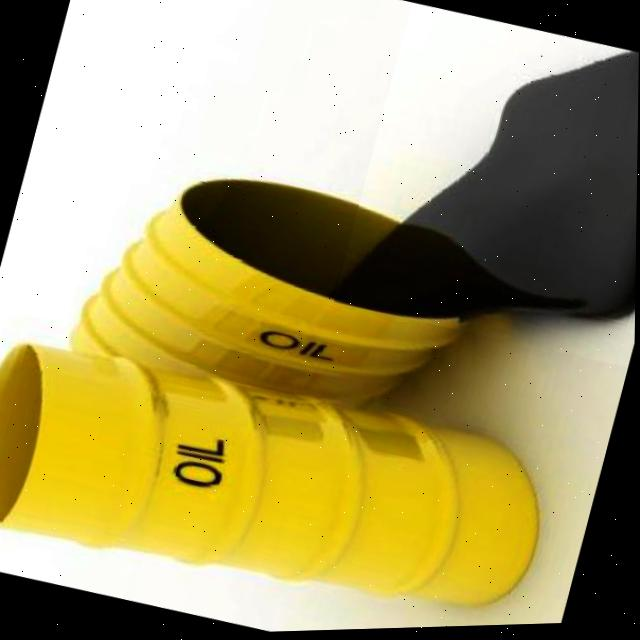spillage: (336, 54, 639, 324)
